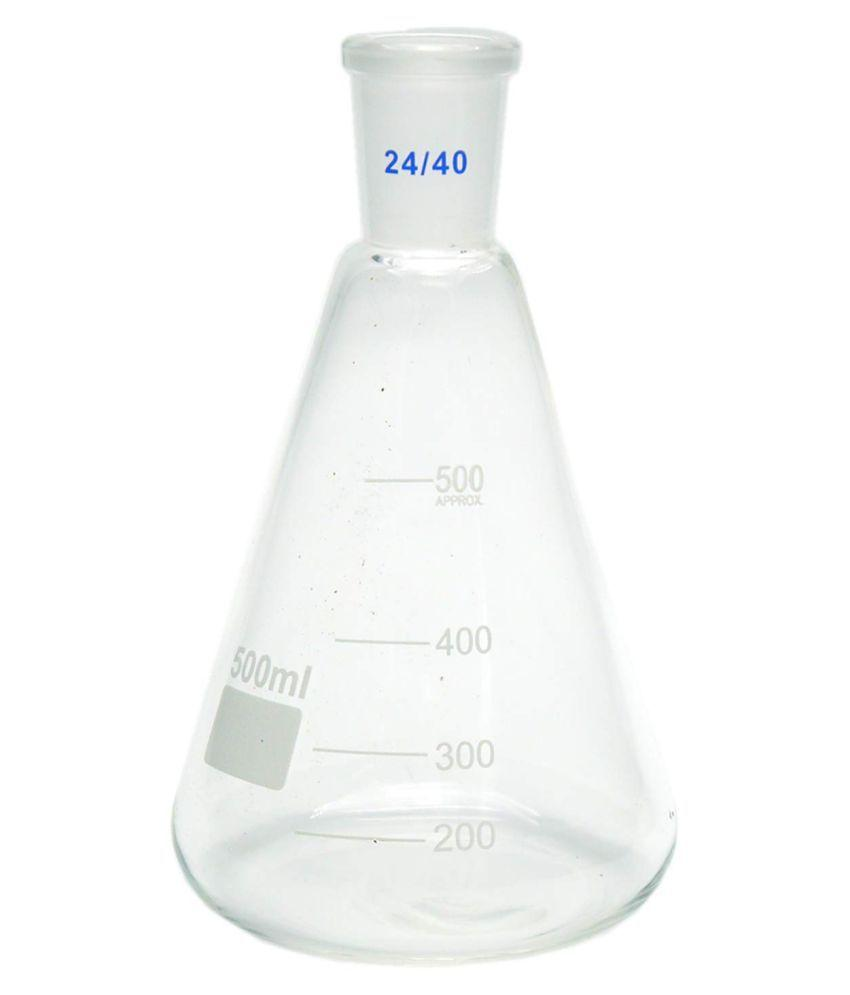Titrarion: (180, 30, 698, 967)
